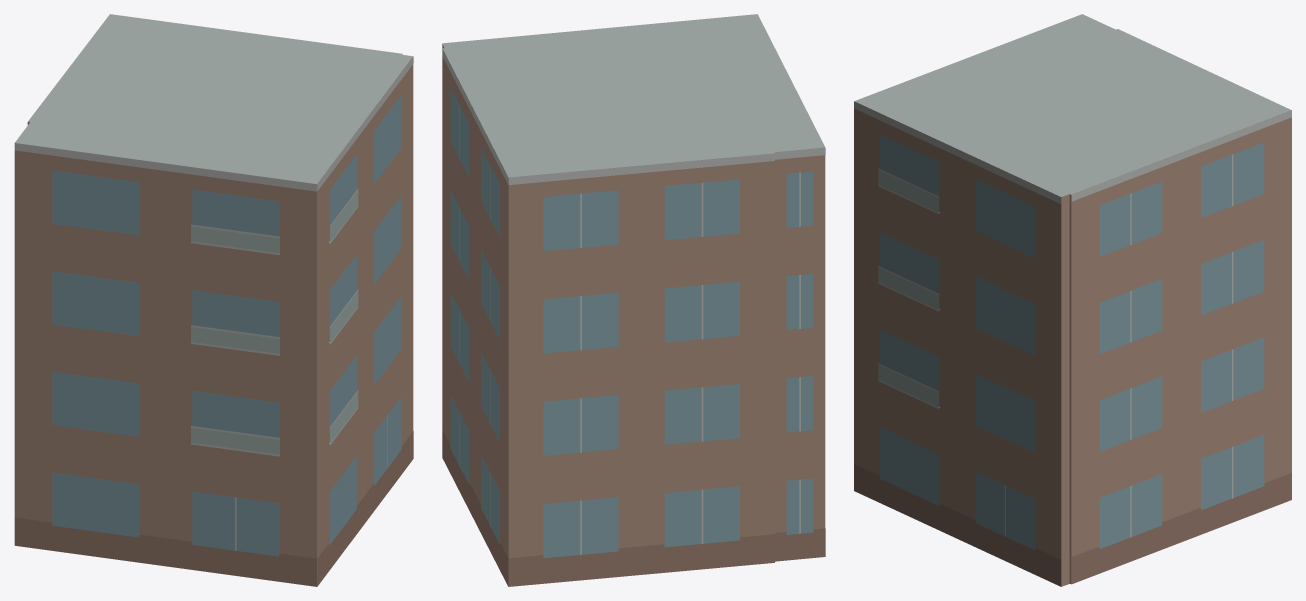
File: survey-upis-32529079.glb
The picture shows the model from 3 angles, left to right: view 1: azimuth 30°, elevation 25°; view 2: azimuth 150°, elevation 25°; view 3: azimuth 270°, elevation 25°; orthographic projection. The views are drawn at different scales.
Parts seen in each view (by area): view 1: survey-upis-32529079.tmp; view 2: survey-upis-32529079.tmp; view 3: survey-upis-32529079.tmp.
Boxes of the visible parts, bbox=[...] form: survey-upis-32529079.tmp: bbox=[14, 14, 413, 586]; survey-upis-32529079.tmp: bbox=[442, 14, 825, 586]; survey-upis-32529079.tmp: bbox=[854, 14, 1291, 586].
Bounding box in the file's own units: 13.31 × 13.2 × 13.44.
